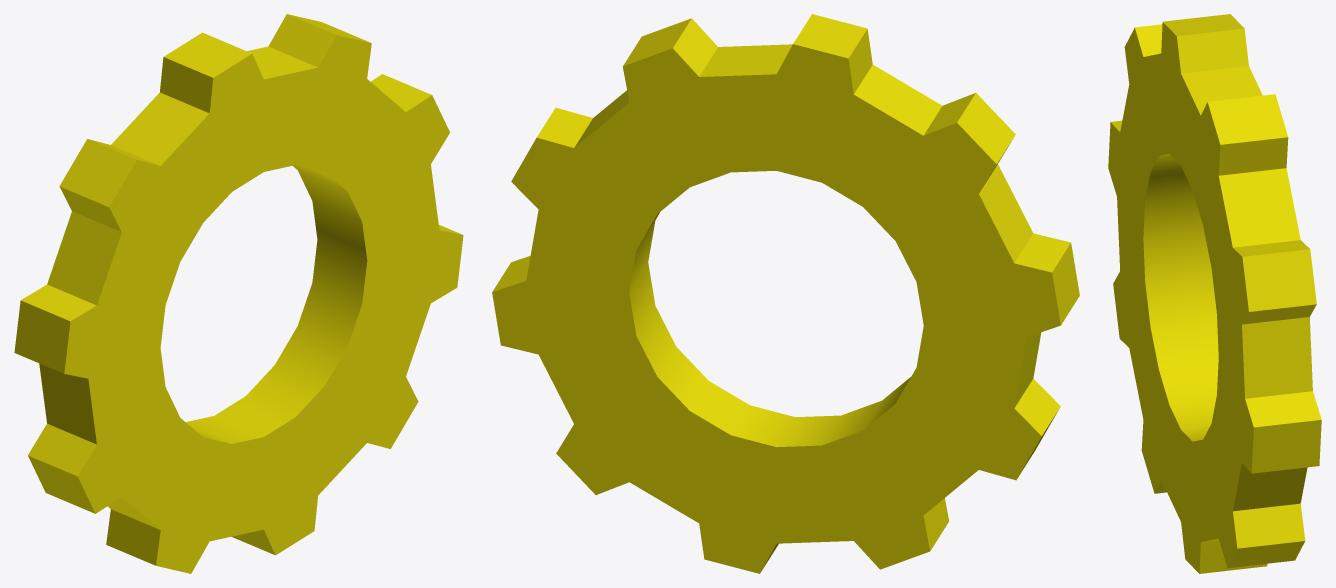
File: SKM_Small_Gear.fbx
3 renders of one model, left to right at view 1: azimuth 30°, elevation 25°; view 2: azimuth 150°, elevation 25°; view 3: azimuth 270°, elevation 25°, orthographic. The views are drawn at different scales.
Parts seen in each view (by area): view 1: Gear_Large; view 2: Gear_Large; view 3: Gear_Large.
Part boxes in pixels (x1,y1,x2,y2): Gear_Large: [14, 14, 463, 573]; Gear_Large: [492, 14, 1079, 573]; Gear_Large: [1108, 14, 1321, 573].
Bounding box in the file's own units: 63.02 × 63.13 × 23.96.
